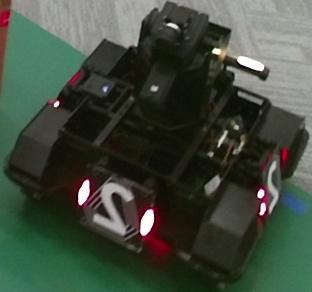armor_2: (78, 179, 155, 237)
